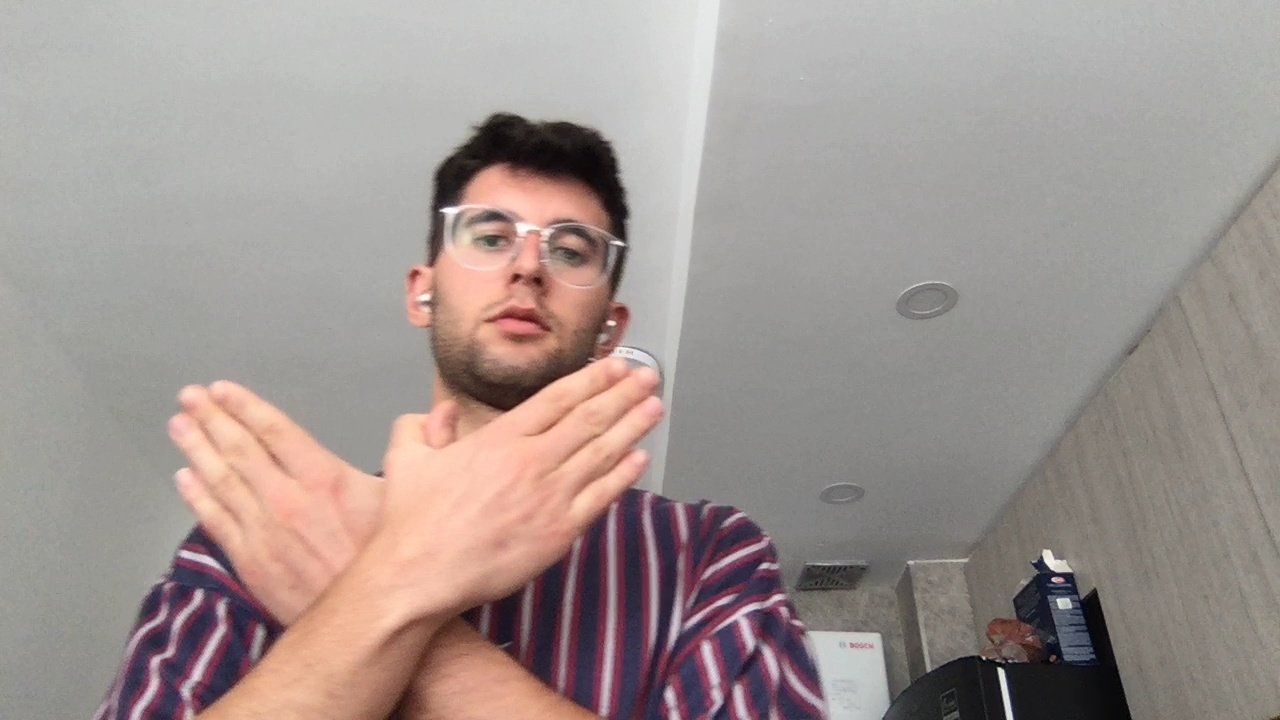ThankYou: (163, 353, 668, 627)
